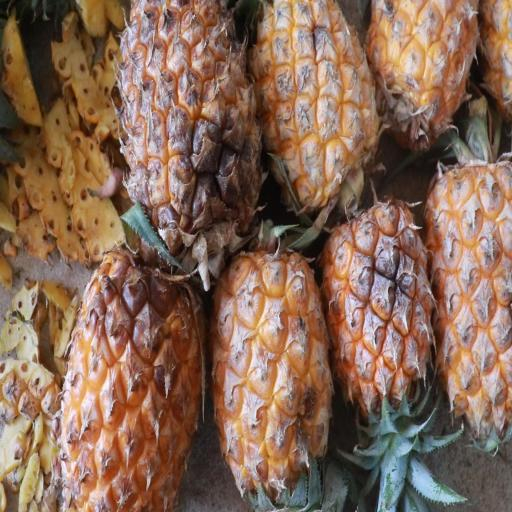Pineapple - v8 v1: (55, 213, 207, 508), (113, 2, 262, 252), (210, 230, 342, 490), (320, 172, 442, 400), (248, 4, 385, 204), (429, 128, 512, 447), (374, 0, 493, 128)
